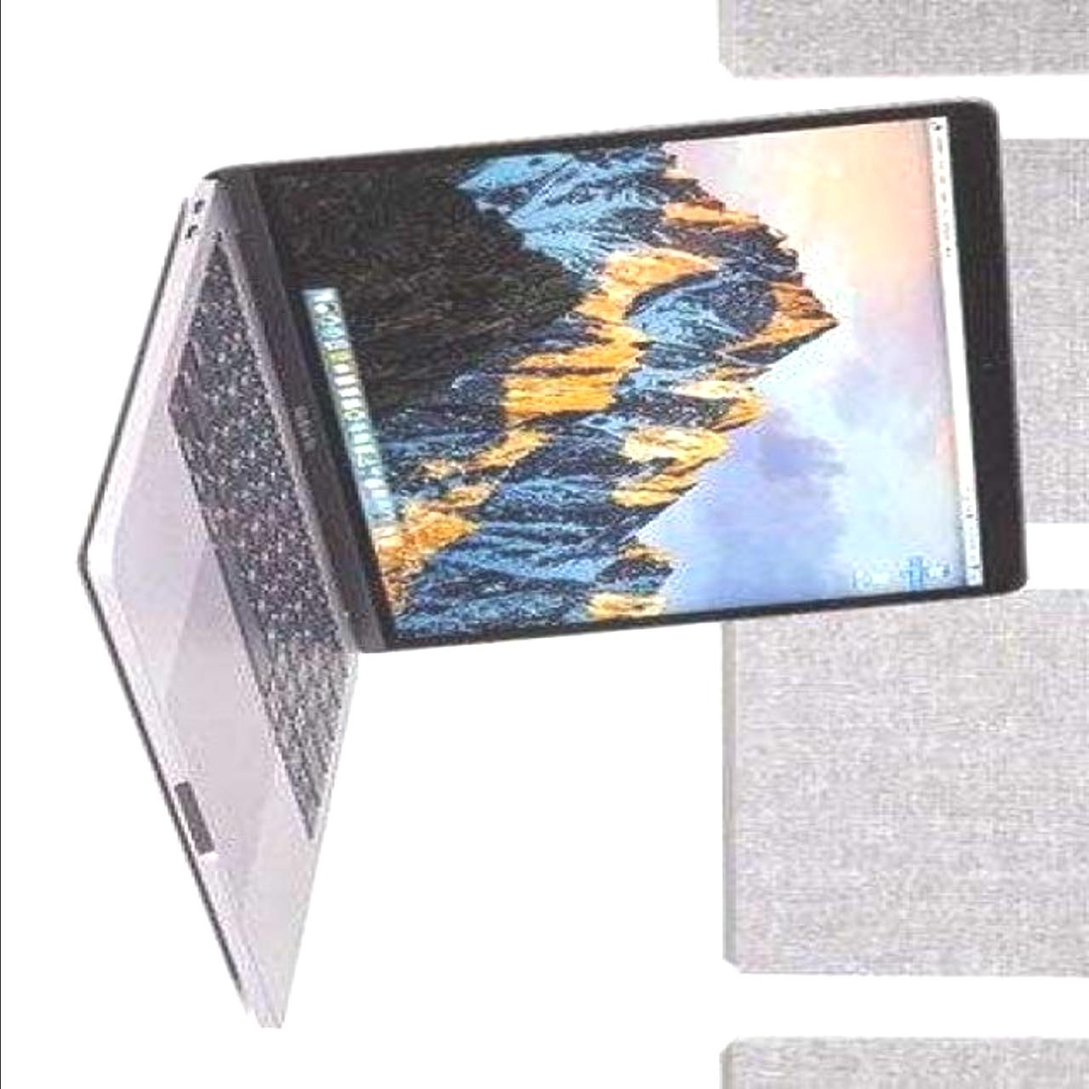laptop: (95, 93, 1021, 1051)
